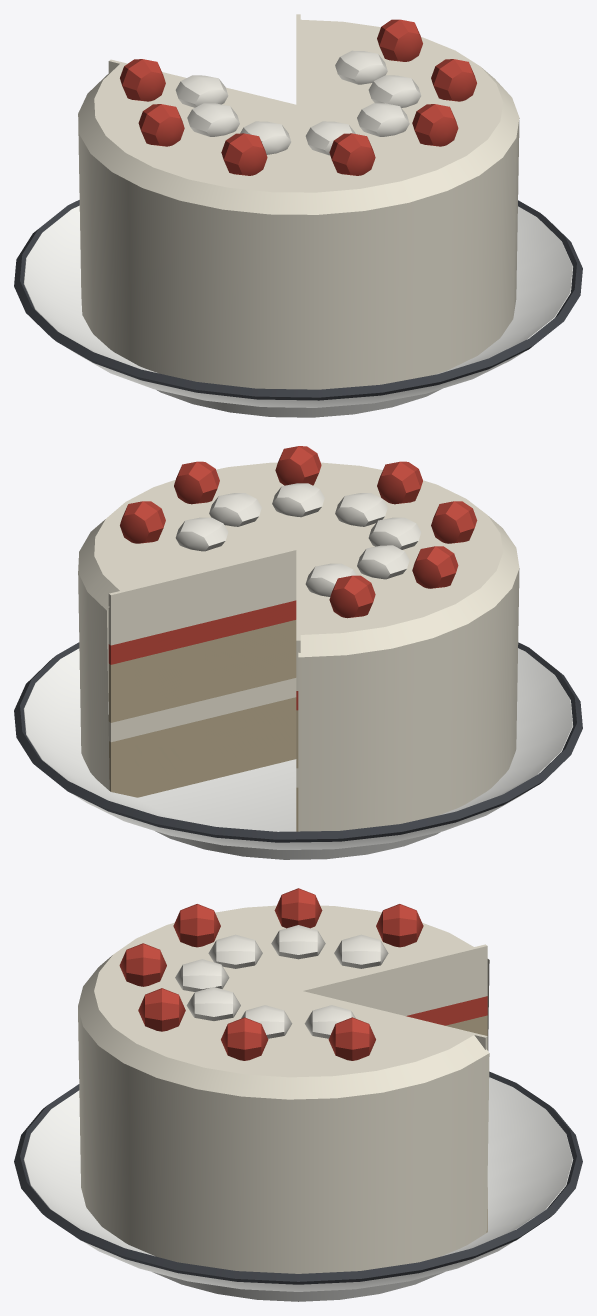
File: cook_cake.glb
3 renders of one model, top to bottom at view 1: azimuth 30°, elevation 25°; view 2: azimuth 150°, elevation 25°; view 3: azimuth 270°, elevation 25°, orthographic.
Parts seen in each view (by area): view 1: body; view 2: body; view 3: body.
Part boxes in pixels (bbox=[...]): body: bbox=[14, 14, 582, 417]; body: bbox=[14, 446, 582, 859]; body: bbox=[14, 888, 582, 1301].
Bounding box in the file's own units: 0.0668 × 0.0346 × 0.0668.
